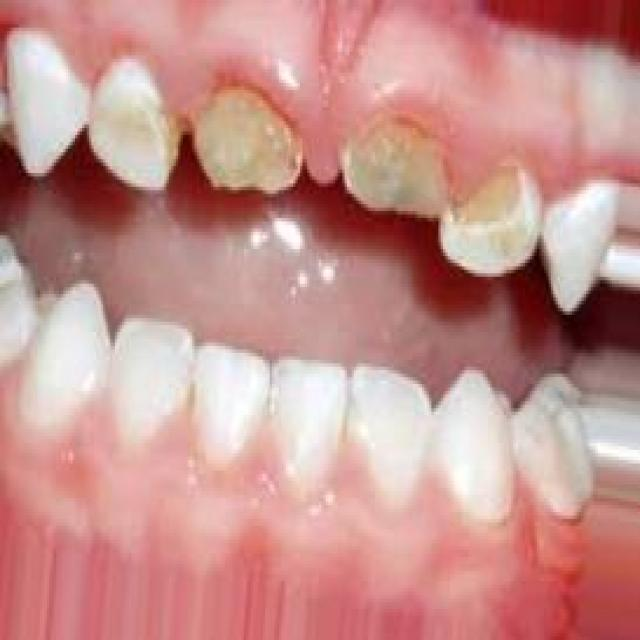caries: (90, 56, 184, 198), (190, 86, 303, 202), (436, 152, 542, 273), (341, 116, 449, 230)
